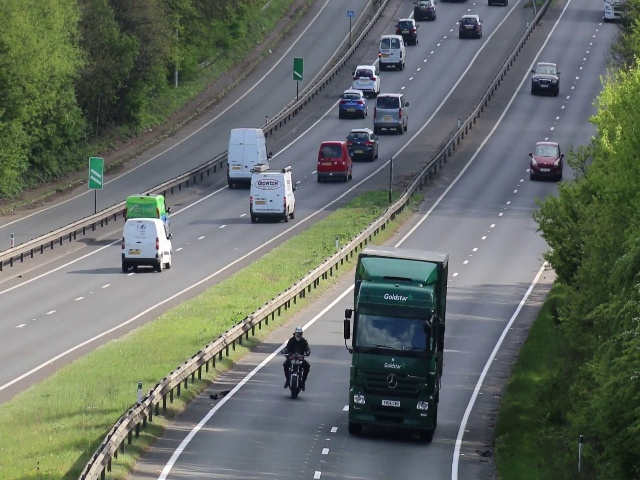car: (343, 288, 441, 440), (120, 220, 171, 273), (250, 169, 295, 222), (526, 137, 566, 183), (528, 58, 563, 99), (374, 94, 409, 134), (317, 140, 352, 180), (227, 130, 266, 165), (378, 33, 403, 72), (340, 90, 367, 118), (351, 129, 377, 158), (456, 14, 485, 38), (124, 198, 165, 214), (413, 1, 438, 21), (352, 66, 376, 86), (402, 19, 416, 42)
